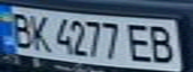2: (66, 16, 87, 57)
4: (51, 15, 72, 55)
7: (100, 19, 127, 60), (84, 18, 106, 57)
B: (145, 22, 181, 65), (3, 9, 36, 50)
E: (124, 20, 157, 63)
K: (24, 11, 54, 52)
